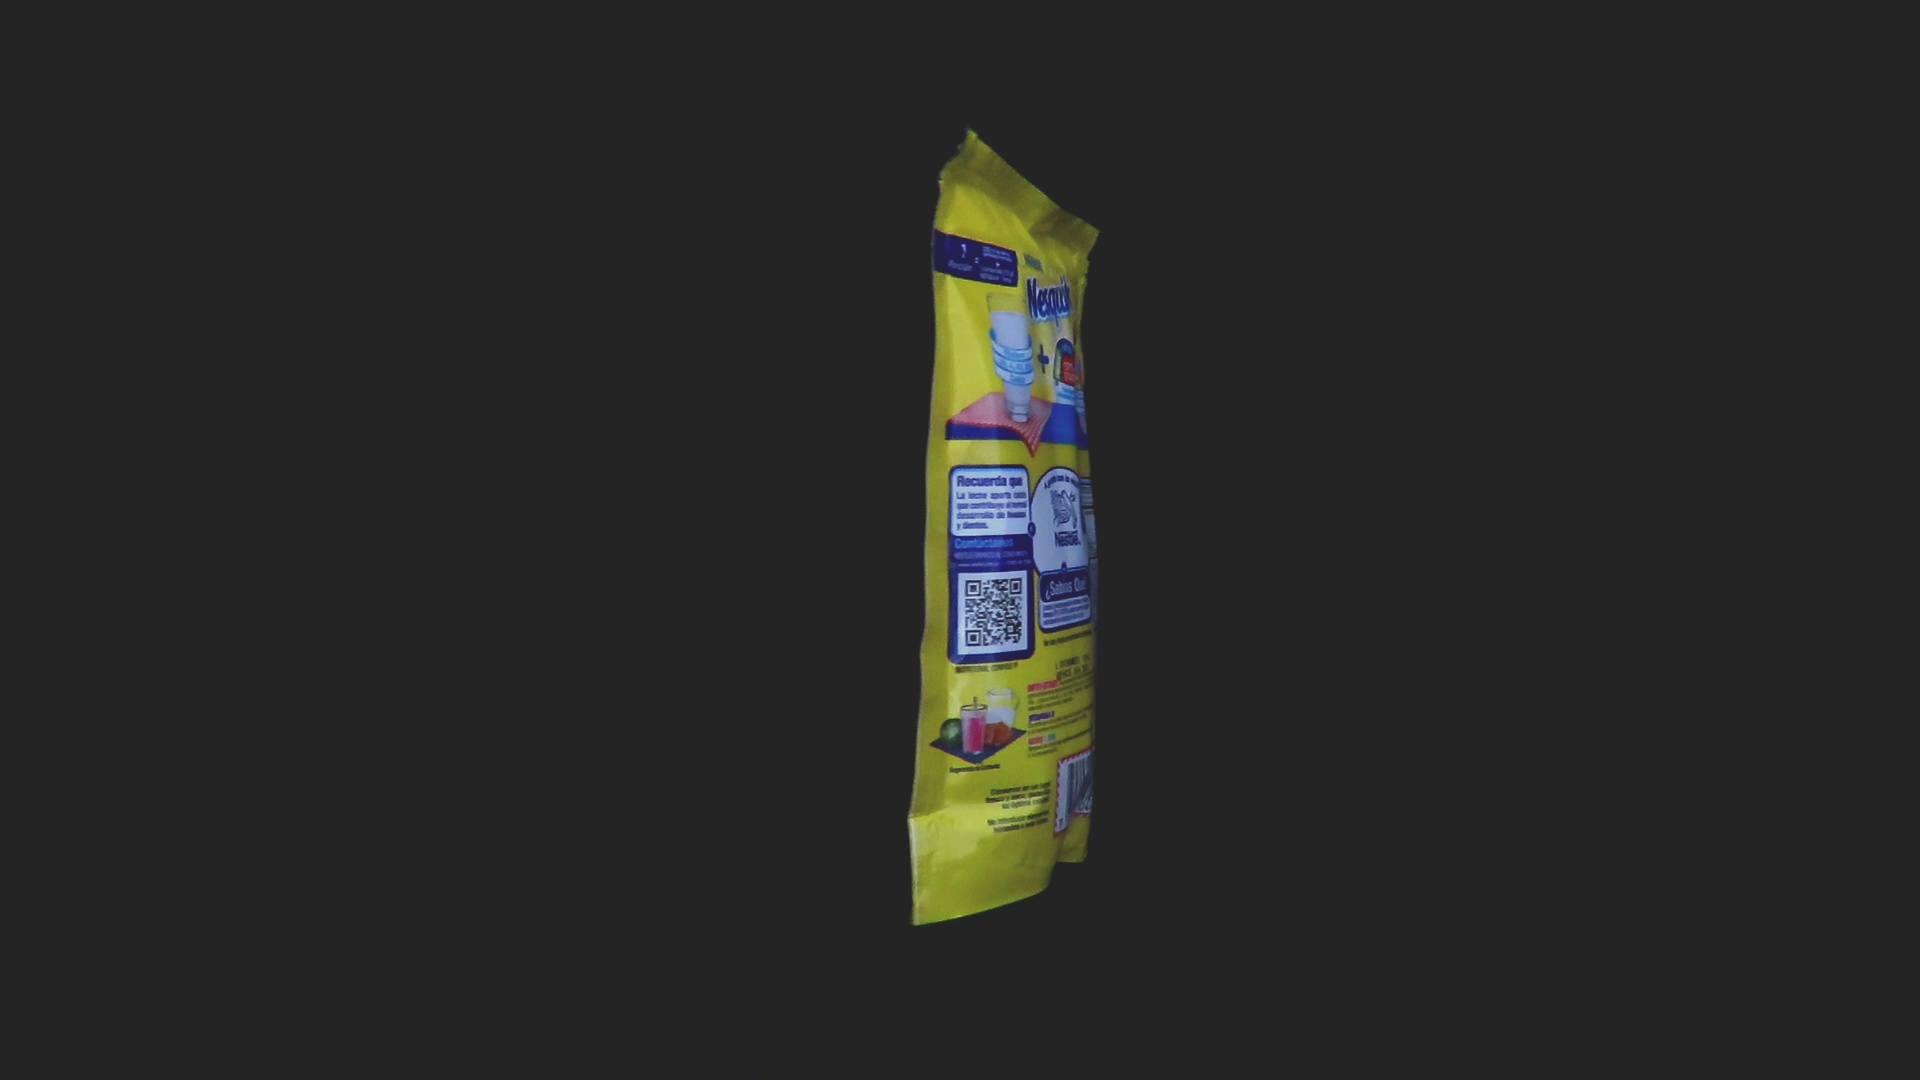COL0170305DYP20000: (902, 119, 1106, 932)
